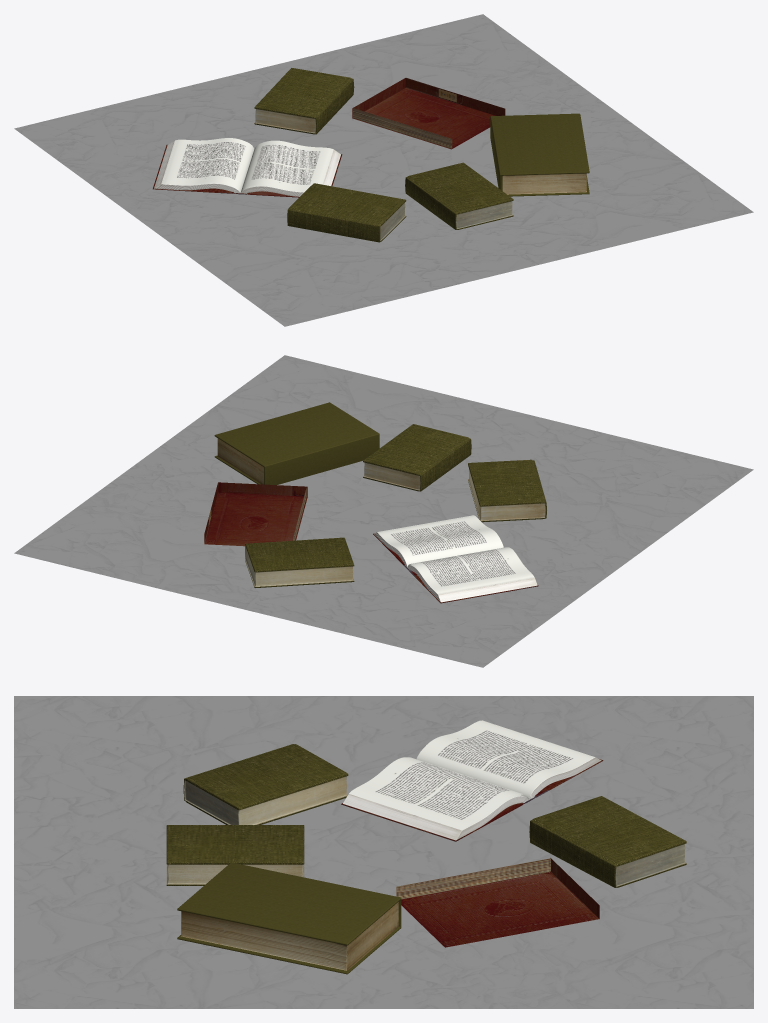
File: a s_ books 1.gltf
3 renders of one model, top to bottom at view 1: azimuth 30°, elevation 25°; view 2: azimuth 150°, elevation 25°; view 3: azimuth 270°, elevation 25°, orthographic. The views are drawn at different scales.
Visible parts, largest first — view 1: Plane.001, livro-01, The Cavalier, Plane, Grapes of Wrath.001, Grapes of Wrath, Grapes of Wrath.002; view 2: Plane.001, The Cavalier, livro-01, Plane, Grapes of Wrath, Grapes of Wrath.002, Grapes of Wrath.001; view 3: Plane.001, The Cavalier, livro-01, Plane, Grapes of Wrath.001, Grapes of Wrath.002, Grapes of Wrath.
Part boxes in pixels (bbox=[...]): Plane.001: bbox=[14, 14, 753, 326]; livro-01: bbox=[153, 138, 342, 197]; The Cavalier: bbox=[490, 113, 589, 196]; Plane: bbox=[352, 78, 505, 149]; Grapes of Wrath.001: bbox=[287, 183, 406, 242]; Grapes of Wrath: bbox=[405, 162, 513, 229]; Grapes of Wrath.002: bbox=[254, 68, 354, 134]; Plane.001: bbox=[14, 355, 753, 667]; The Cavalier: bbox=[214, 402, 379, 484]; livro-01: bbox=[373, 515, 538, 603]; Plane: bbox=[204, 482, 307, 546]; Grapes of Wrath: bbox=[363, 424, 471, 491]; Grapes of Wrath.002: bbox=[245, 537, 354, 587]; Grapes of Wrath.001: bbox=[468, 459, 546, 522]; Plane.001: bbox=[14, 696, 753, 1008]; The Cavalier: bbox=[177, 862, 401, 974]; livro-01: bbox=[341, 720, 603, 841]; Plane: bbox=[396, 858, 599, 947]; Grapes of Wrath.001: bbox=[183, 744, 348, 824]; Grapes of Wrath.002: bbox=[529, 796, 686, 887]; Grapes of Wrath: bbox=[166, 825, 304, 885].
Bounding box in the file's own units: 12 × 0.5593 × 12.
14 materials, 14 textured.
